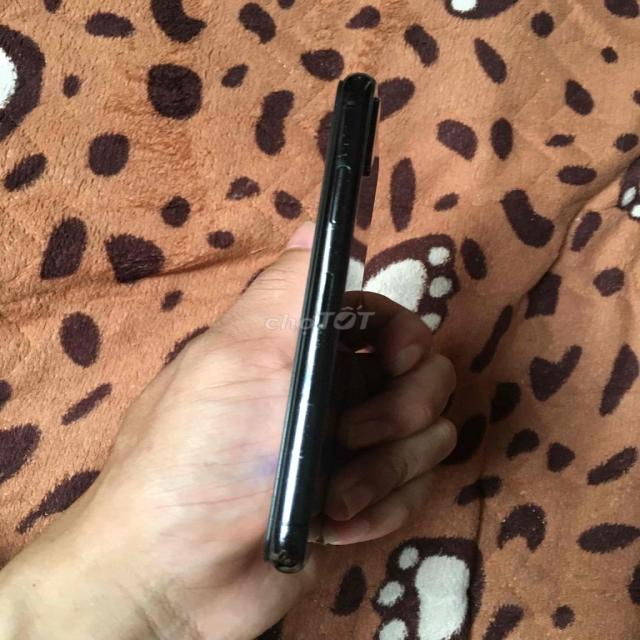gen_x_xs: (265, 73, 379, 572)
scratch: (283, 407, 321, 477), (310, 316, 338, 405)
